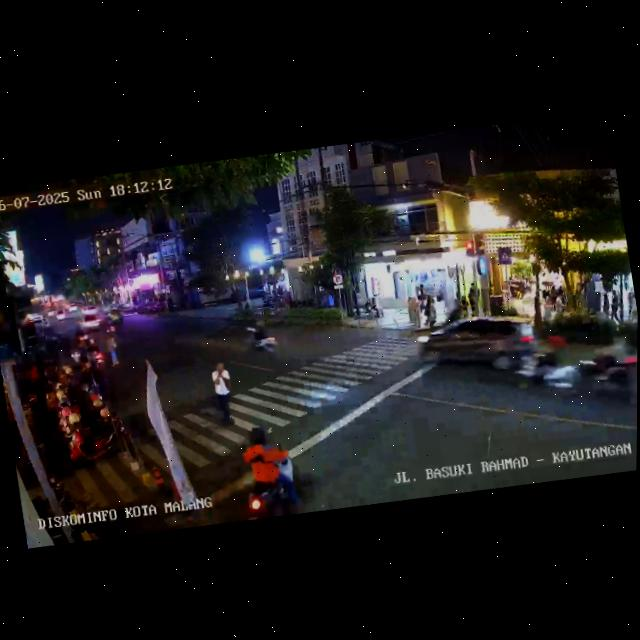car: (417, 304, 546, 388), (76, 307, 108, 334)
motorcycle: (231, 422, 310, 522), (509, 332, 583, 400), (574, 334, 638, 400), (243, 313, 281, 360), (103, 315, 118, 339)
person: (208, 360, 239, 429), (422, 297, 439, 329), (105, 337, 122, 369), (607, 290, 622, 322), (409, 296, 423, 328), (540, 288, 553, 319), (548, 286, 560, 312), (601, 293, 611, 320), (553, 292, 565, 313)
